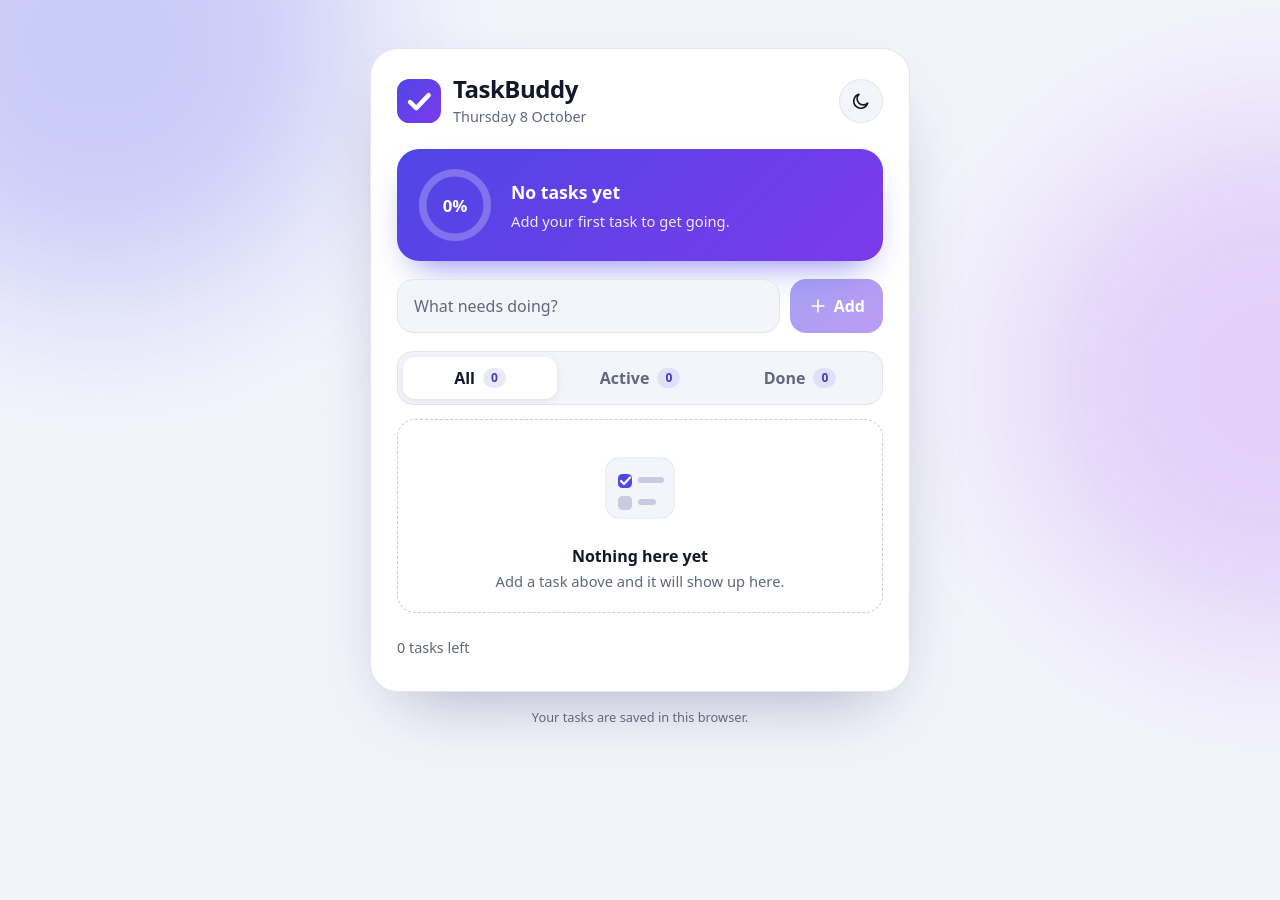
Test: TaskBuddy › filters between all, active and done tasks
The width and height of the screenshot is (1280, 900).
Type "Write report" into the field named "New task" at x=588, y=306, box [397, 279, 780, 333]
Then press Enter
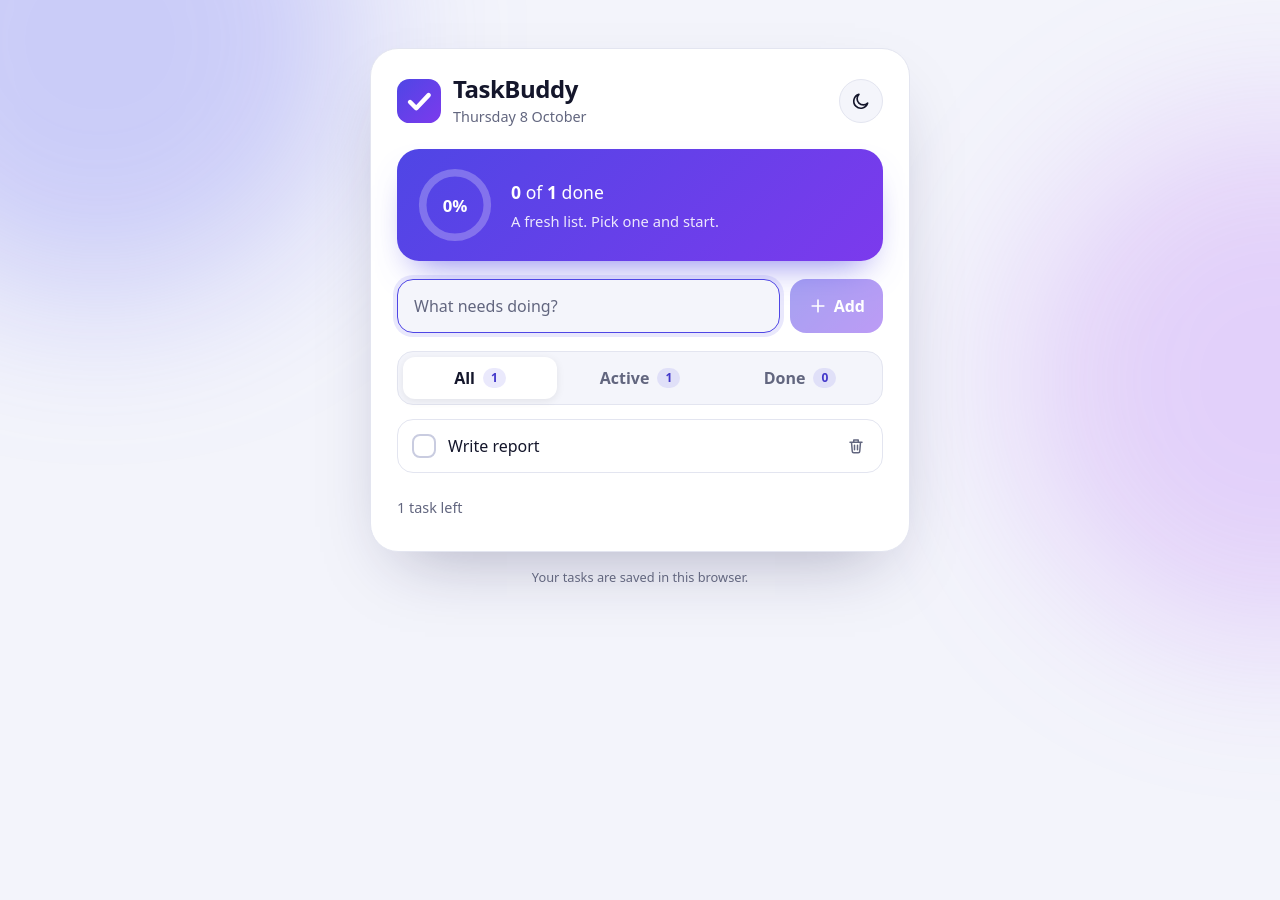
Type "Book tickets" into the field named "New task" at x=588, y=306, box [397, 279, 780, 333]
Then press Enter
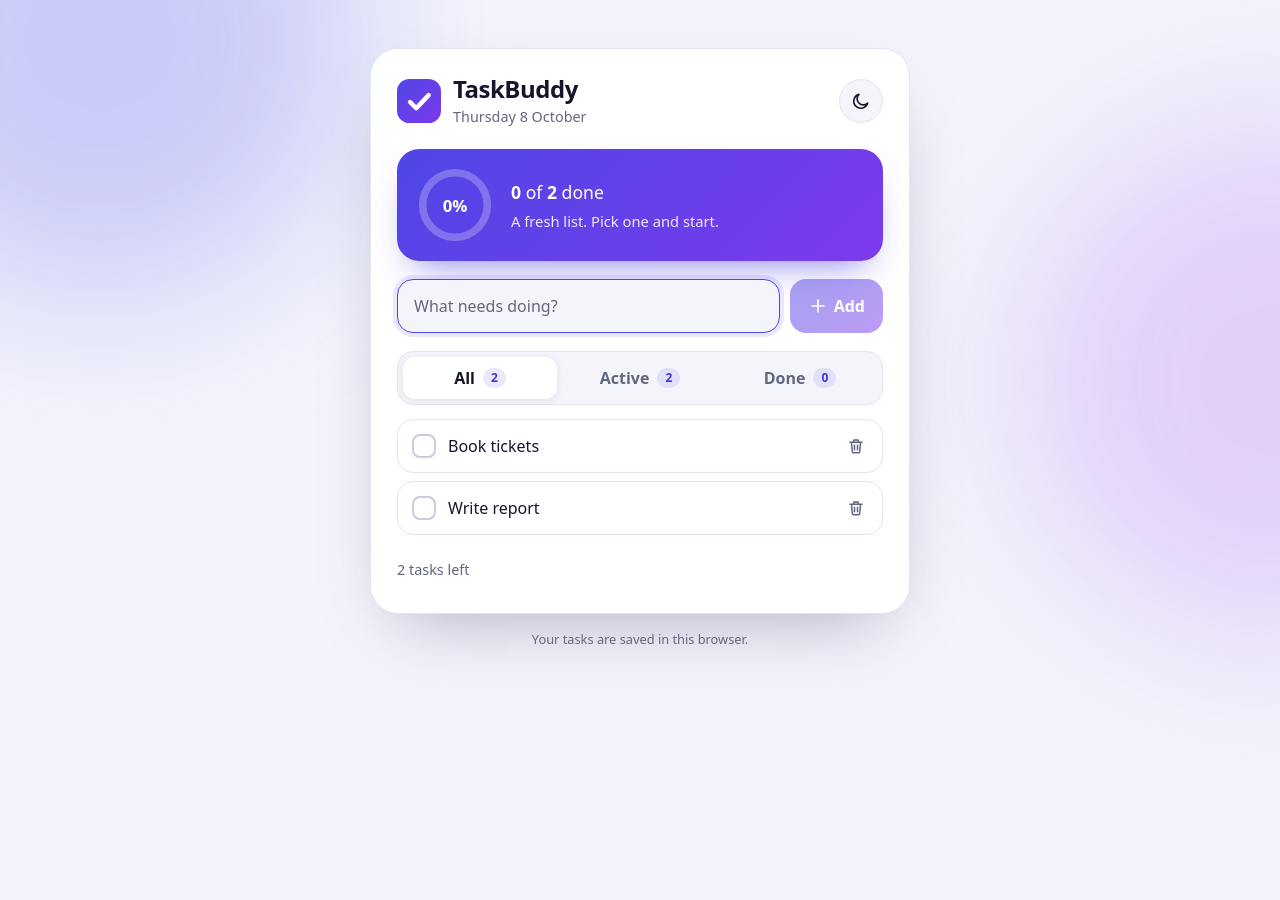
Click the checkbox labelled "Write report" at x=476, y=508, box [412, 496, 540, 520]
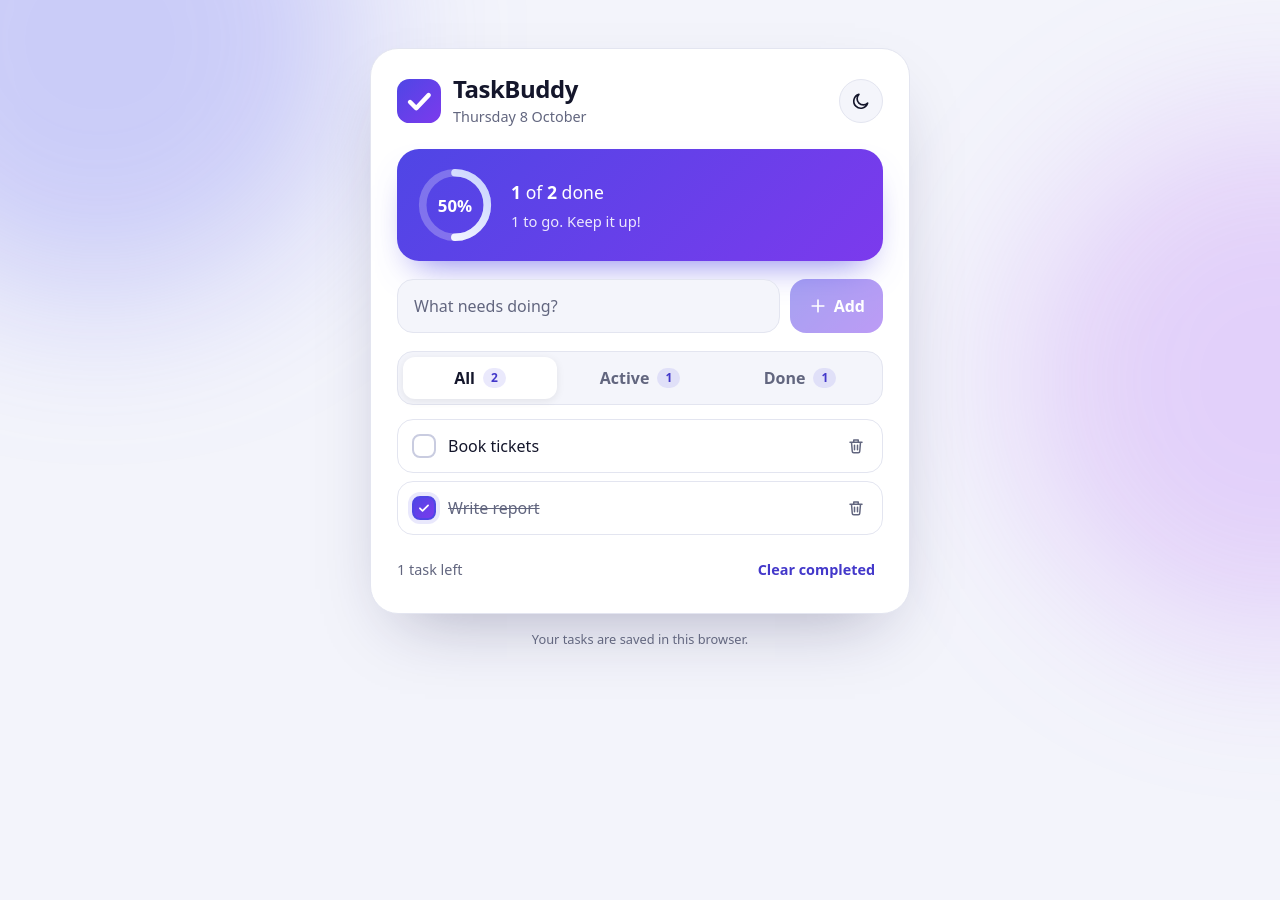
Click the button "Active 1" at x=640, y=378, box [563, 357, 717, 399]
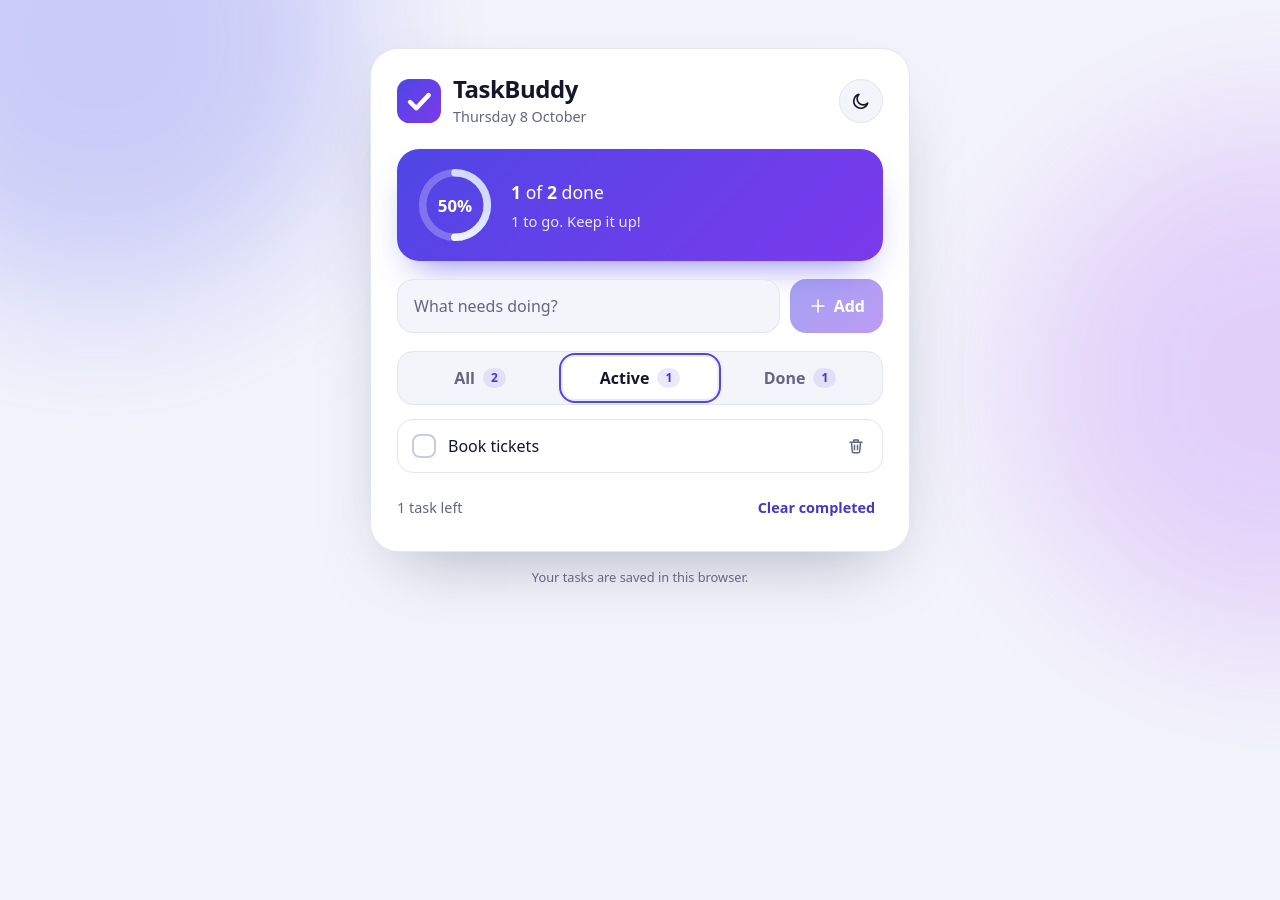
Check: the list items read "Book tickets", in this order, box [397, 419, 883, 473]
Click the button "Done 1" at x=800, y=378, box [723, 357, 877, 399]
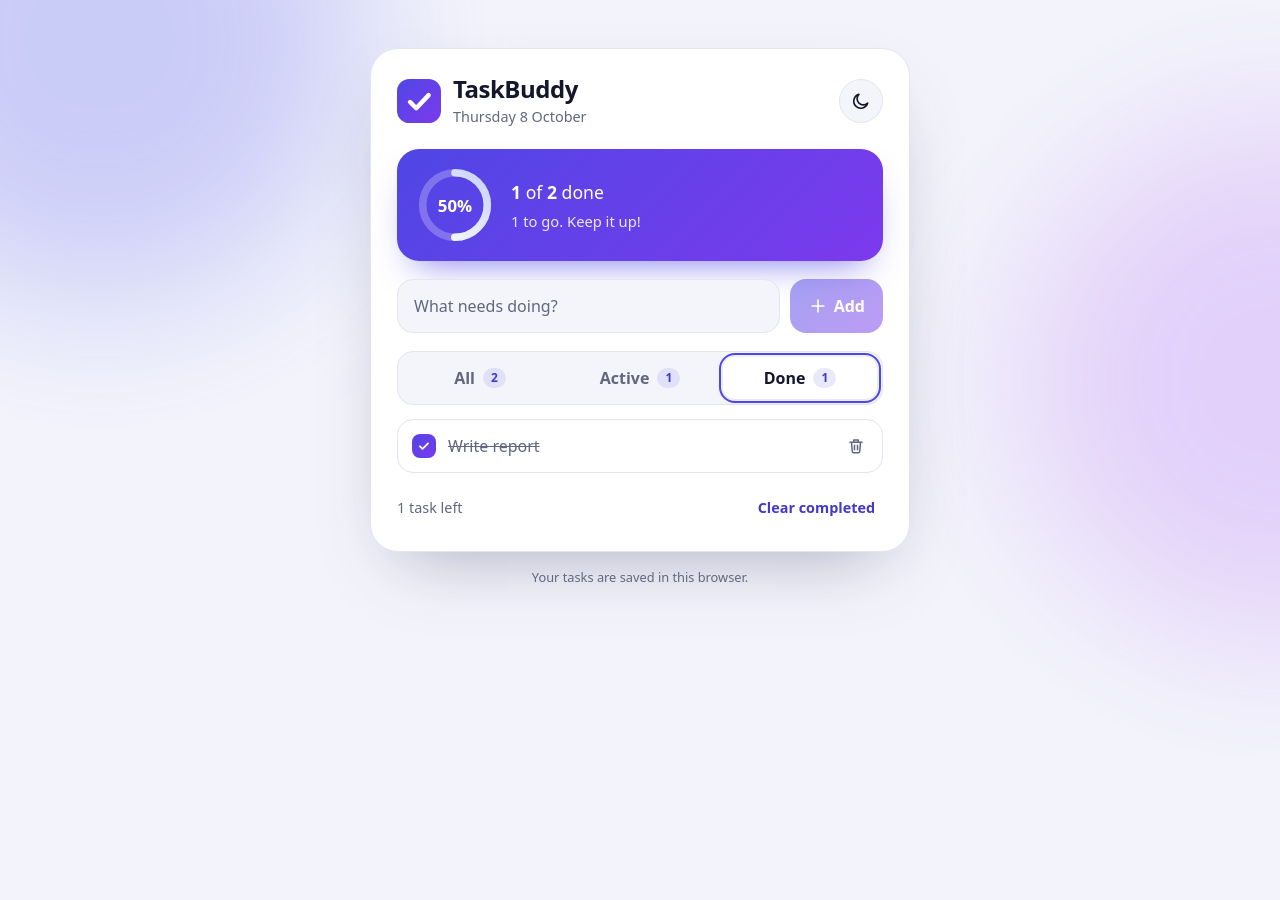
Check: the list items read "Write report", in this order, box [397, 419, 883, 473]
Click the button "All 2" at x=480, y=378, box [403, 357, 557, 399]
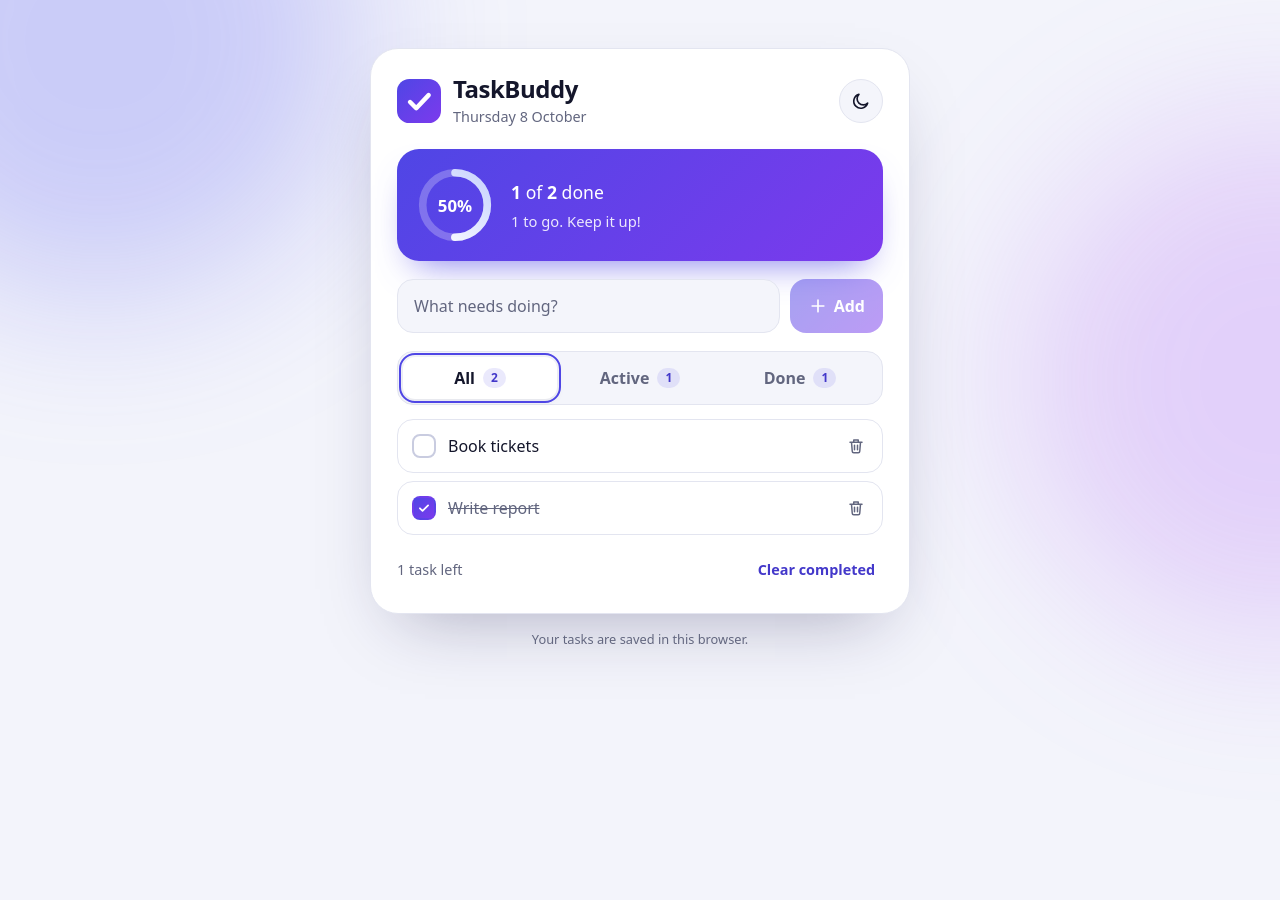
Check: the number of list items is 2, box [397, 419, 883, 473]; [397, 481, 883, 535]
